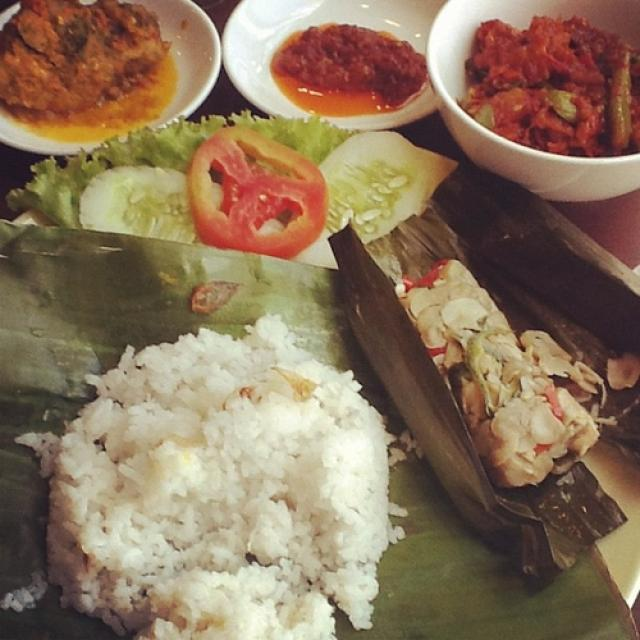米饭主食: (27, 35, 627, 618)
